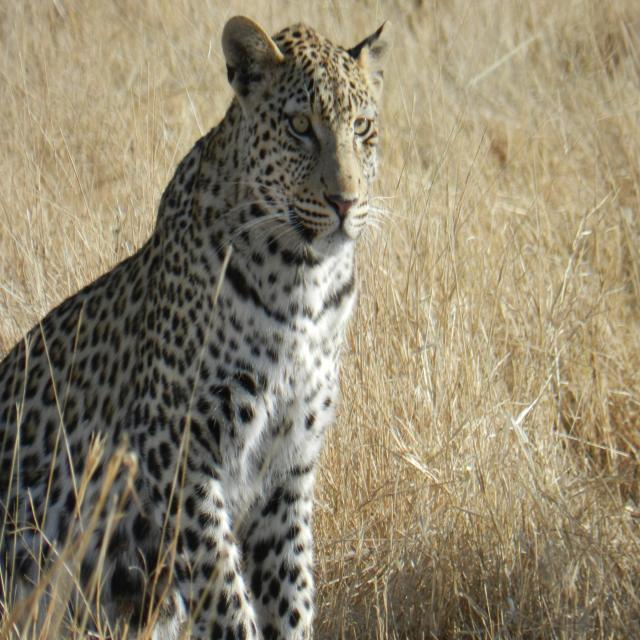Leopard: (0, 8, 492, 638)
